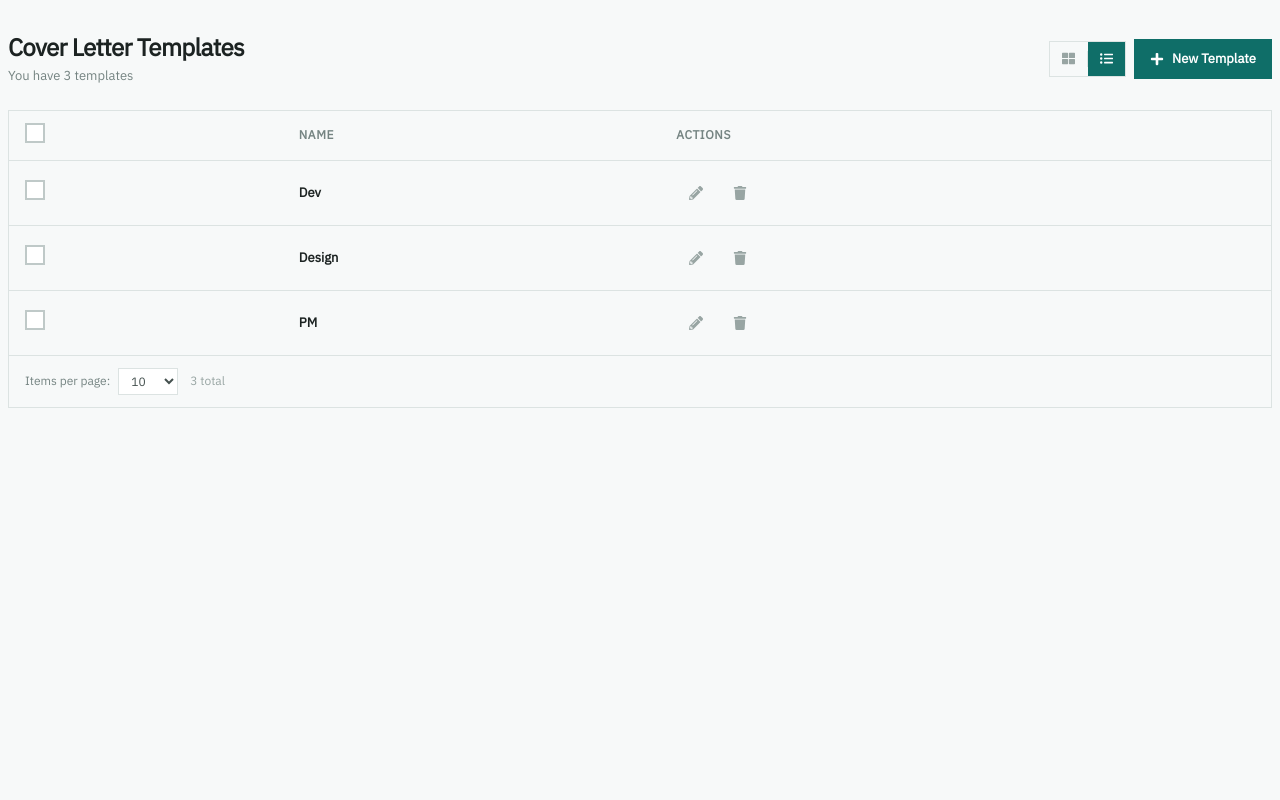
Test: TemplatesView — CRUD operations › opens edit modal when edit button is clicked
Check: the text "Dev" is shown, box [299,184,321,201]
Click the button titled "Edit Template" in the row of "Dev". click: [696, 192]
box: [676,172,716,212]
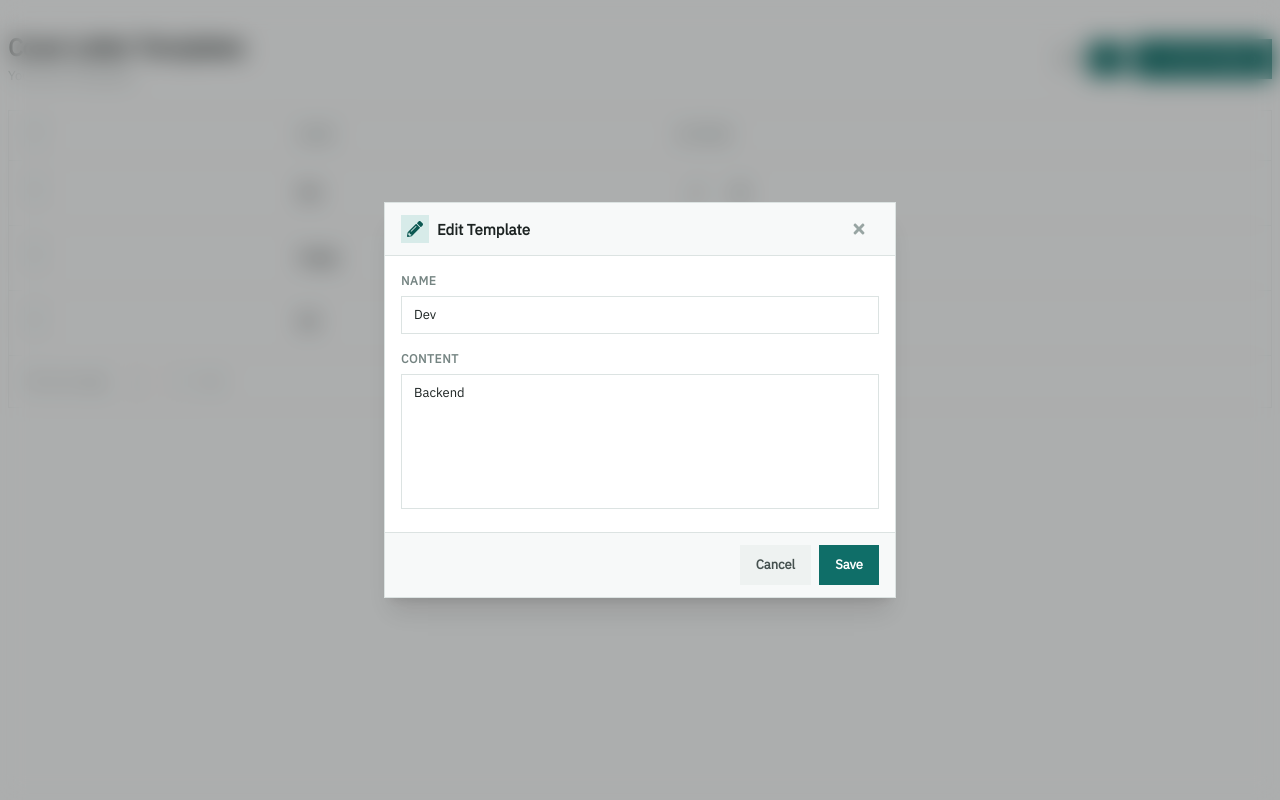
Check: the heading "Edit Template" is shown, box [437,218,530,241]
